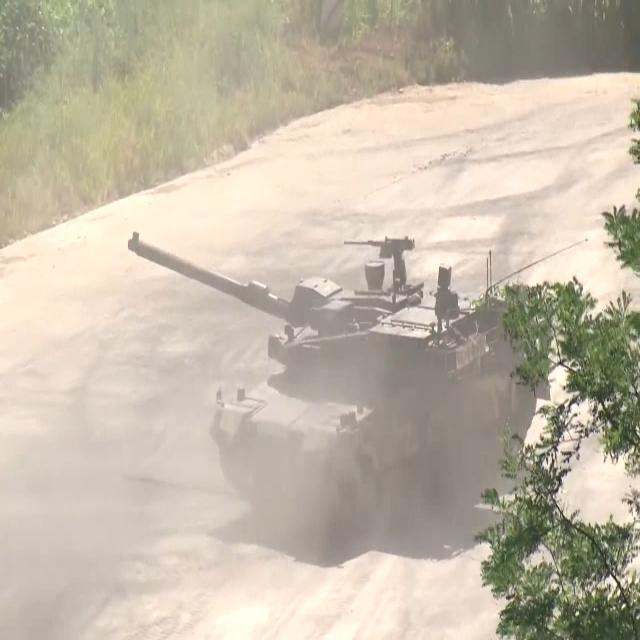korea tank: (125, 229, 559, 553)
